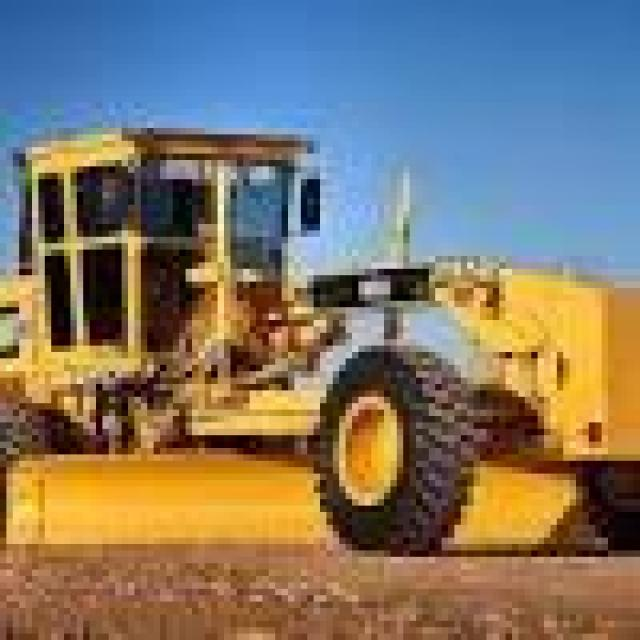buldozerpayloadergrader: (12, 64, 634, 550)
